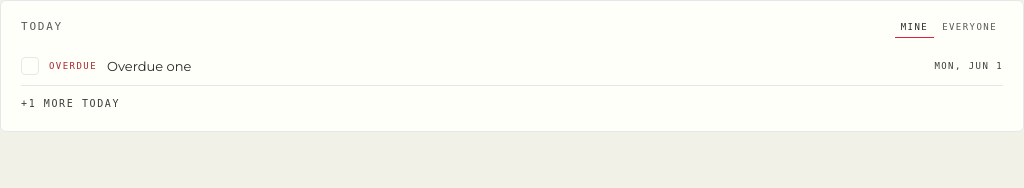
Test case: TodayPanel hot deals › keeps a recently touched hot deal out of the collapsed card entirely
expect the button "OVERDUE Overdue one Mon, Jun 1" is shown: met, box [49,56,1003,76]
Click the button "+1 more today": x=71, y=98 [21,86,120,111]
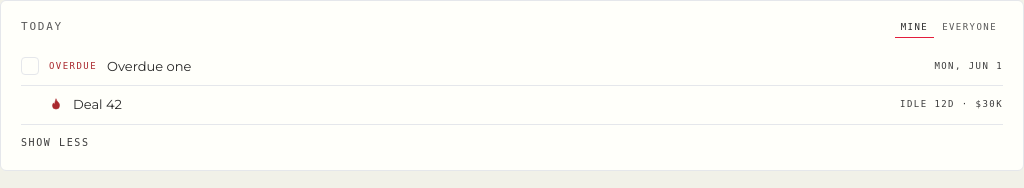
expect the button "Deal 42 idle 12d · $30K" is shown: met, box [49,95,1003,114]
